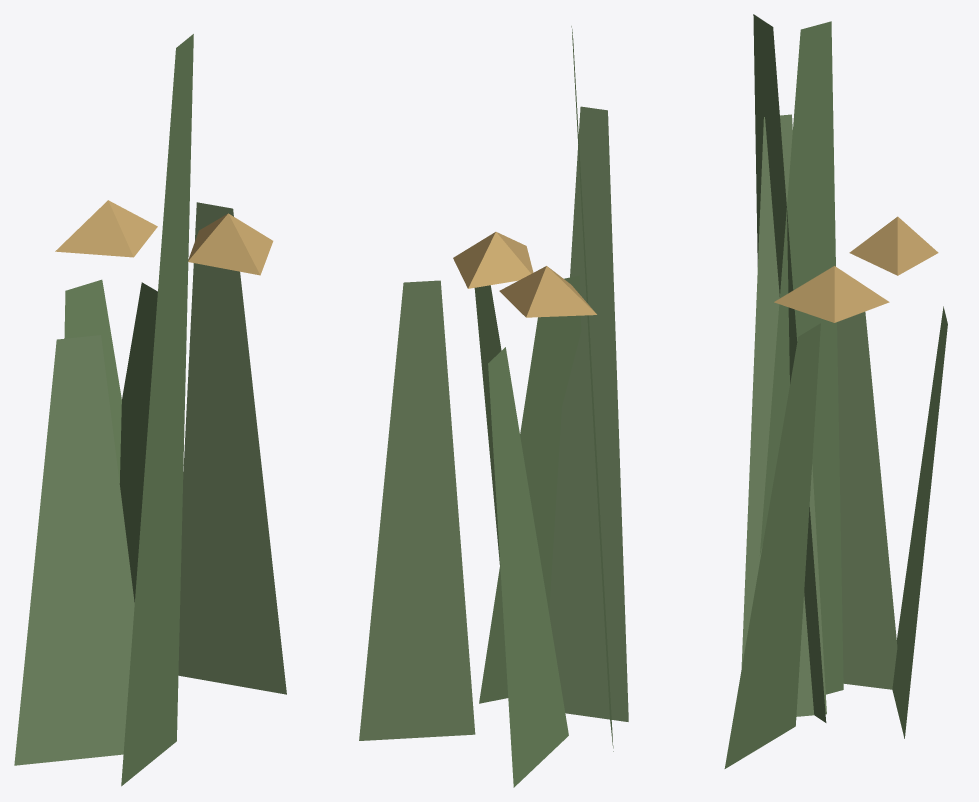
Rendered from crop.temp.wheat__summer.glb.
The picture shows the model from 3 angles, left to right: view 1: azimuth 30°, elevation 25°; view 2: azimuth 150°, elevation 25°; view 3: azimuth 270°, elevation 25°; orthographic projection. The views are drawn at different scales.
Visible parts, largest first — view 1: crop.temp.wheat__summer; view 2: crop.temp.wheat__summer; view 3: crop.temp.wheat__summer.
Part boxes in pixels (box(x1,y1,x2,y2)): crop.temp.wheat__summer: box(14, 34, 286, 786); crop.temp.wheat__summer: box(359, 26, 628, 787); crop.temp.wheat__summer: box(724, 14, 947, 768).
Bounding box in the file's own units: 0.4129 × 1 × 0.3362.
